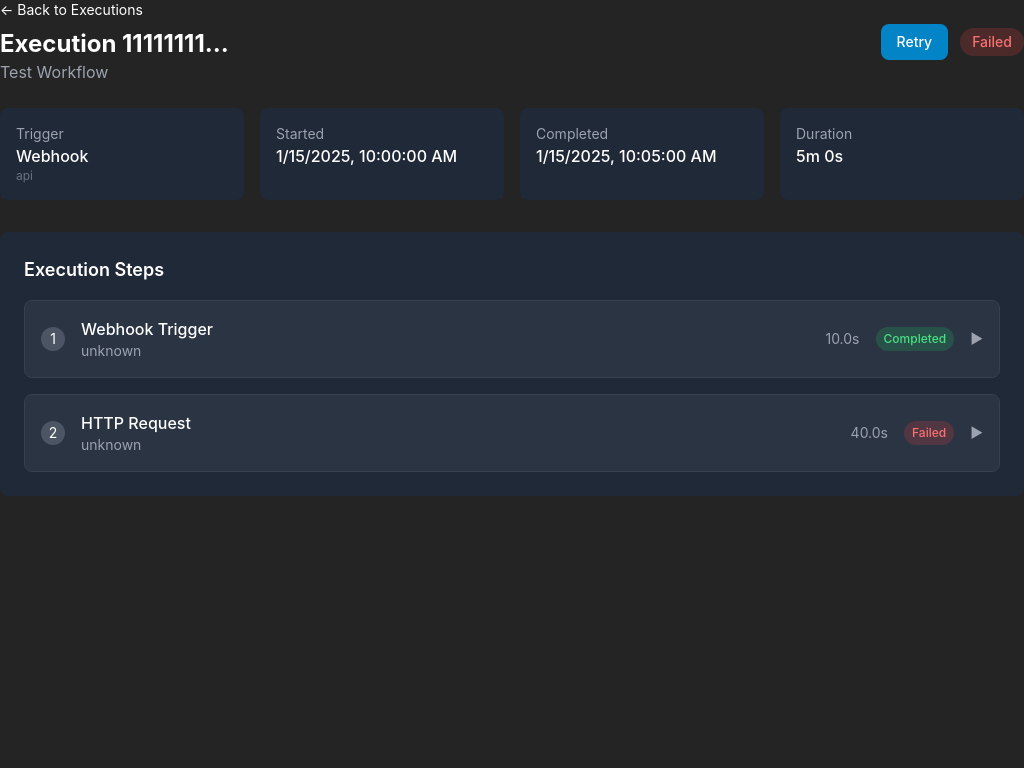
Test: ExecutionDetail Integration › Execution steps › should display failed step with error message
Expected: the text "Failed" in the row of "11111111" is shown, [972,33,1012,50]
Click on the failed step to expand it
Click the text "HTTP Request" at coordinates (136, 423), box [81,411,191,435]
(page scrolled)
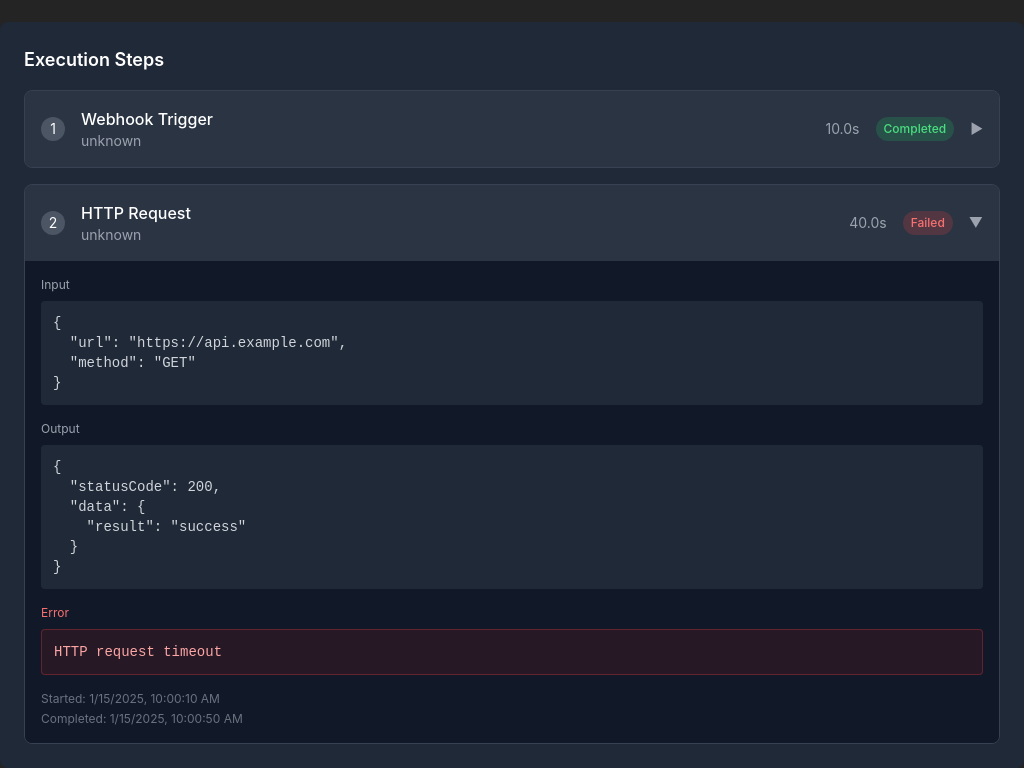
Result: the text "HTTP request timeout" is shown at [41,629,983,675]
